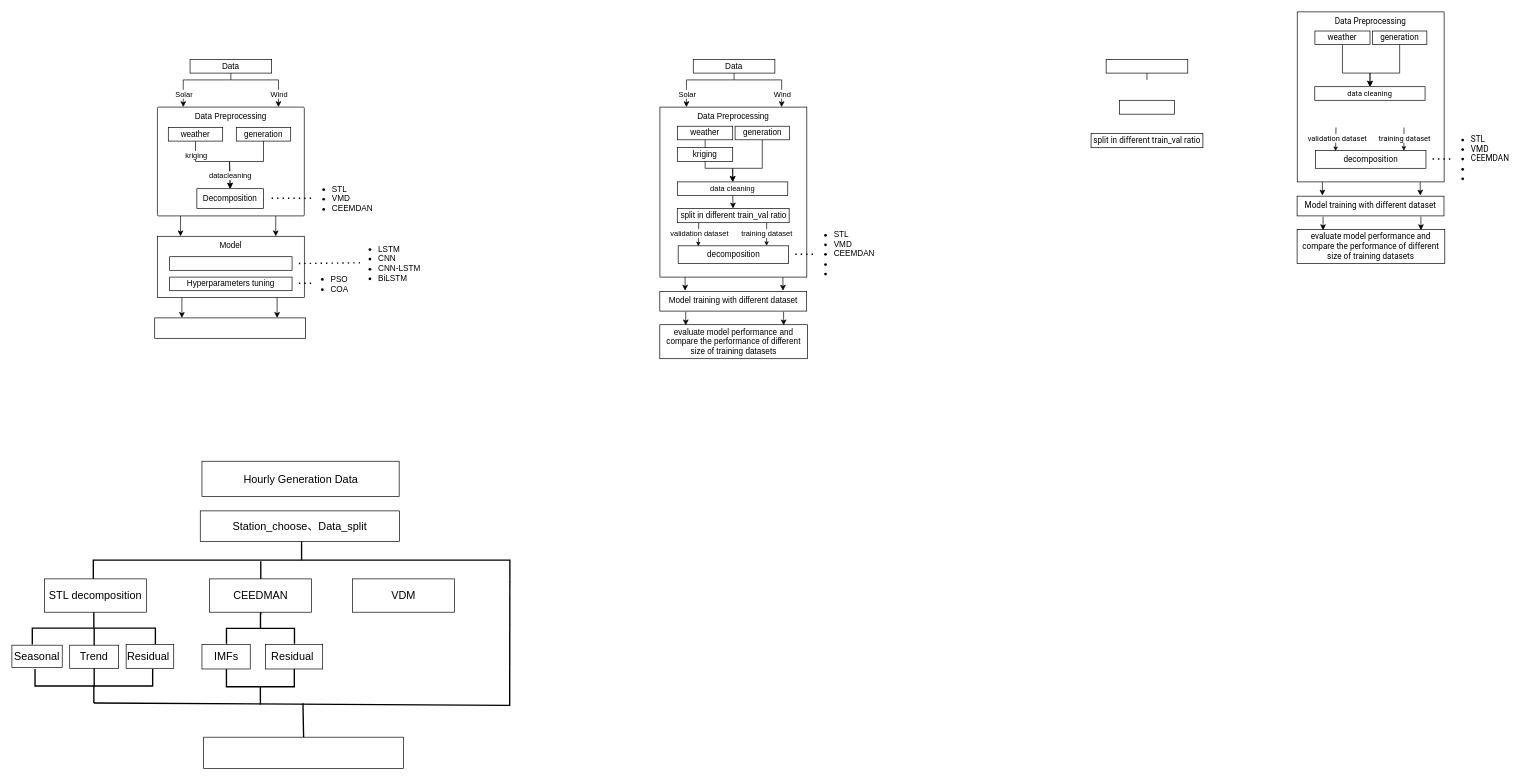
Image size: 1525x781. Some labels were removed from this diagram. Here are the shapes that lost their labels. From the top down, the centre of each, then its label:
At pixel 1146 66: "Data Collection".
At pixel 1147 107: "Interpolation".
At pixel 230 263: "Model select".
At pixel 230 327: "evaluate model performance".
At pixel 303 752: "Create_dataset、DataLoader".
